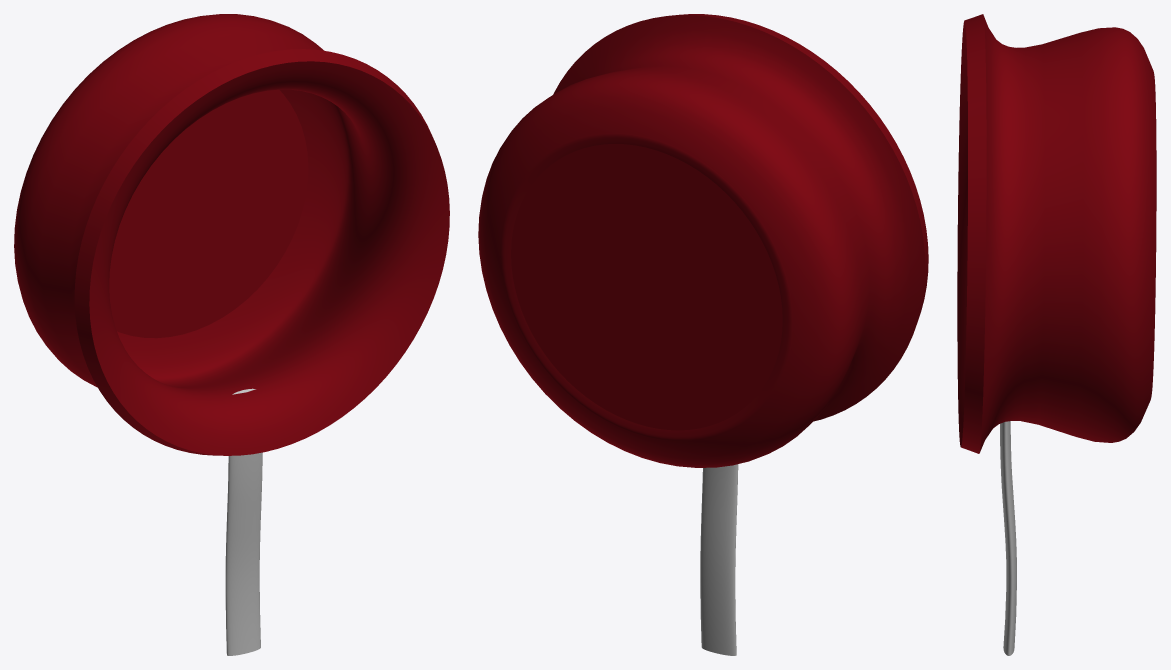
File: PastaPot.fbx
The picture shows the model from 3 angles, left to right: view 1: azimuth 30°, elevation 25°; view 2: azimuth 150°, elevation 25°; view 3: azimuth 270°, elevation 25°; orthographic projection. The views are drawn at different scales.
Visible parts, largest first — view 1: Object_2, Object_1; view 2: Object_2, Object_1; view 3: Object_2, Object_1.
Boxes of the visible parts, x1,y1,x2,y2 form: Object_2: [14, 14, 449, 455]; Object_1: [225, 388, 262, 655]; Object_2: [478, 14, 928, 467]; Object_1: [700, 464, 738, 655]; Object_2: [957, 14, 1156, 453]; Object_1: [1000, 421, 1016, 655].
Bounding box in the file's own units: 113 × 174 × 51.14.
